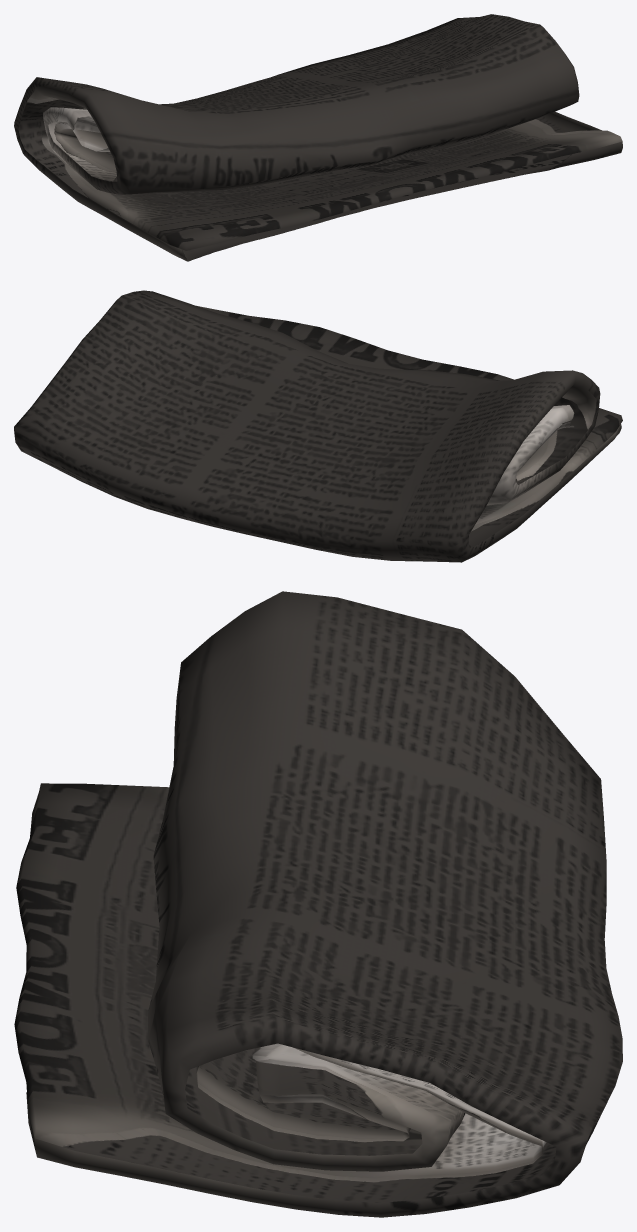
The model's file is newspaper.fbx.
3 views of the same model, one above another, from view 1: azimuth 30°, elevation 25°; view 2: azimuth 150°, elevation 25°; view 3: azimuth 270°, elevation 25° (orthographic). The views are drawn at different scales.
Parts seen in each view (by area): view 1: meshes[0]; view 2: meshes[0]; view 3: meshes[0].
Part boxes in pixels (x1,y1,x2,y2): meshes[0]: [14, 14, 622, 261]; meshes[0]: [14, 290, 622, 562]; meshes[0]: [14, 591, 622, 1217].
Bounding box in the file's own units: 0.3584 × 0.1185 × 0.2377.
1 material, 1 textured.
